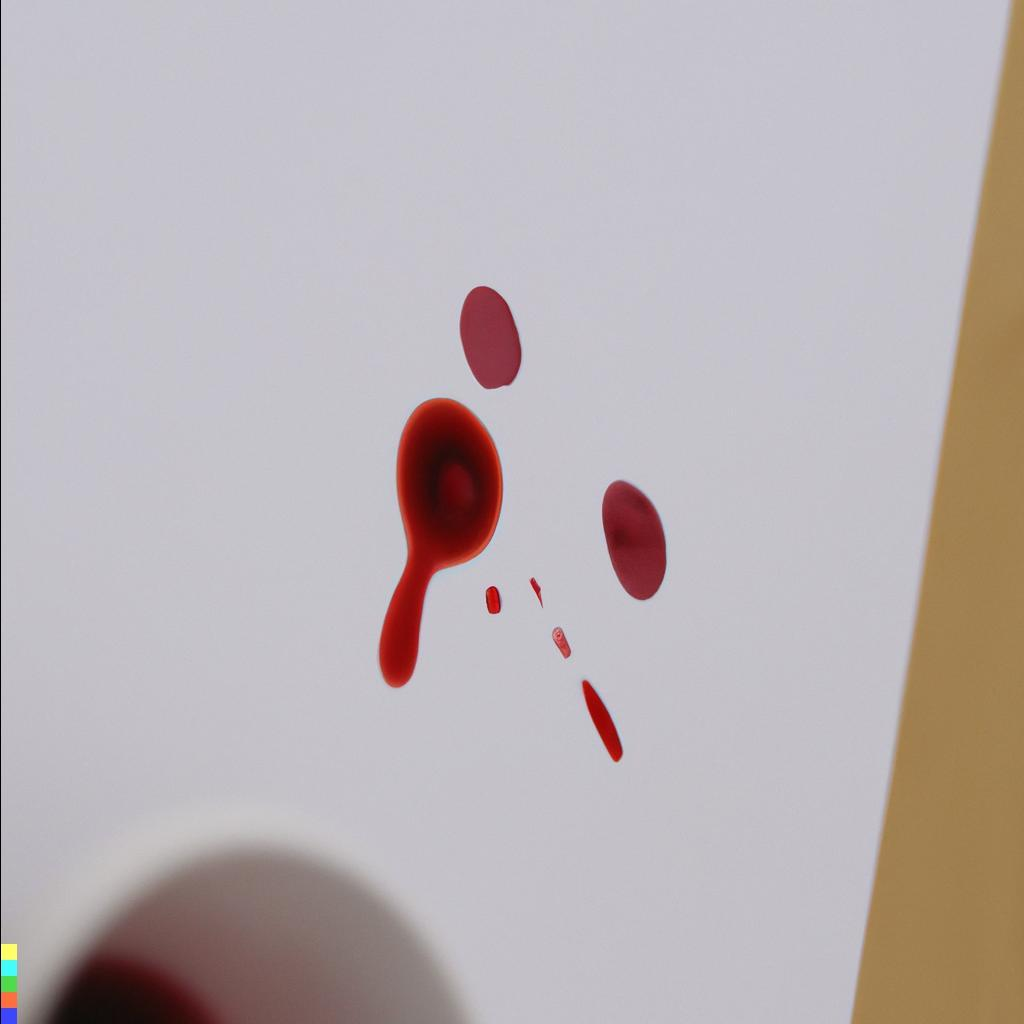Fire: (378, 397, 503, 688), (602, 480, 666, 600), (459, 285, 521, 389), (581, 679, 623, 763), (485, 585, 500, 614)
